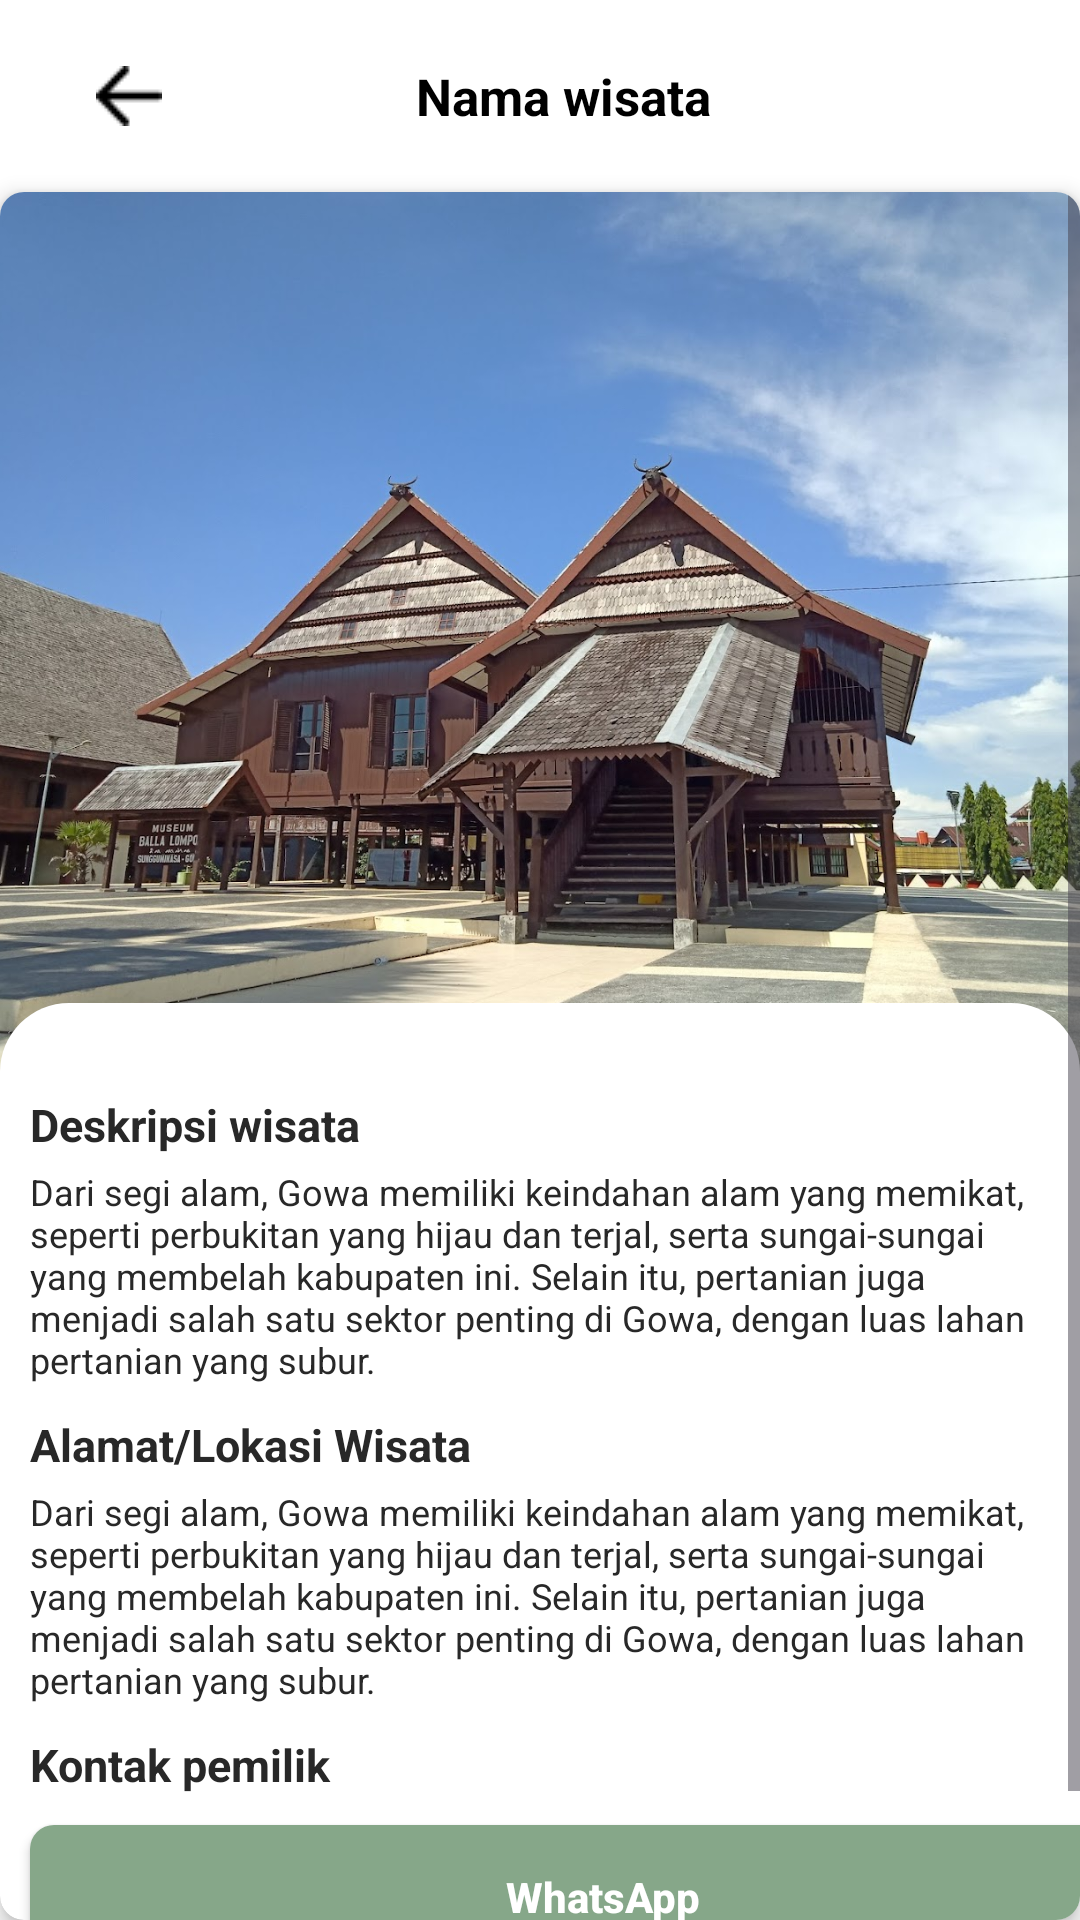

Locate icon controls on the screen. Image size 1080 x 1920, boxes as detection(x1, y1, x2, y2).
panahkiri: detection(96, 66, 162, 126)
